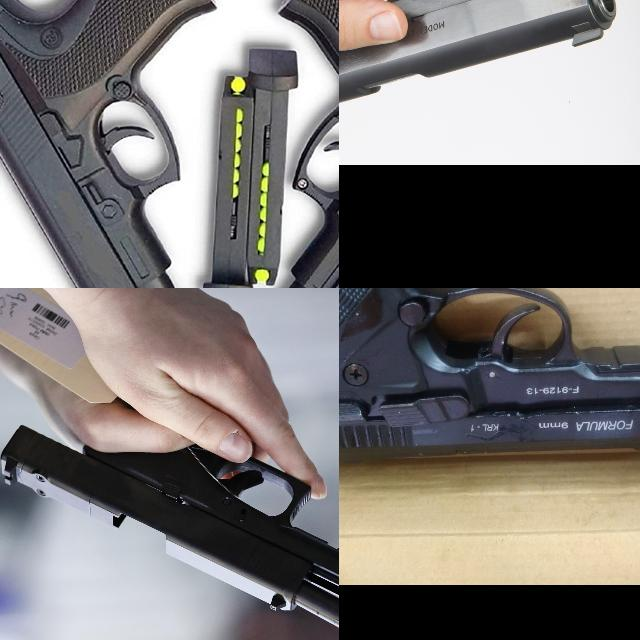handgun: (0, 421, 339, 636), (0, 0, 221, 288), (339, 288, 640, 468), (339, 0, 616, 139), (237, 0, 339, 288)
